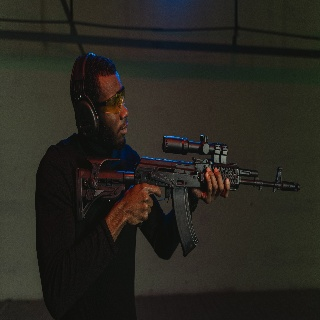rifle: (74, 133, 301, 256)
